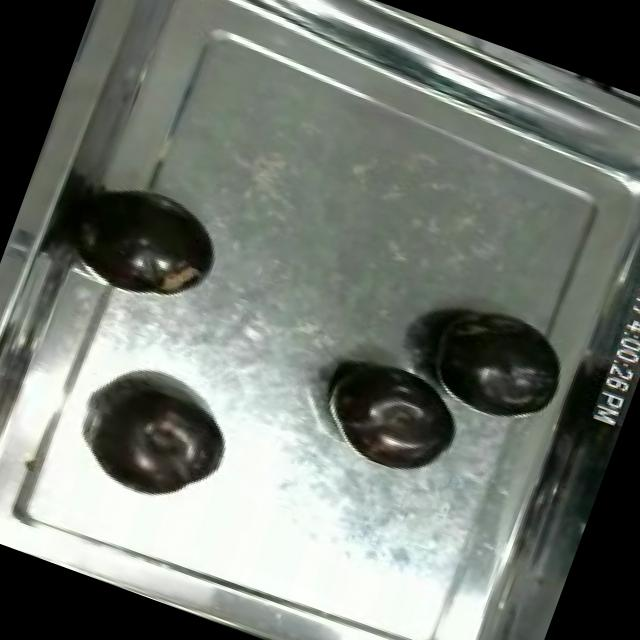Fruit: (69, 360, 243, 516), (68, 166, 240, 322), (304, 341, 476, 492), (411, 288, 578, 437)
